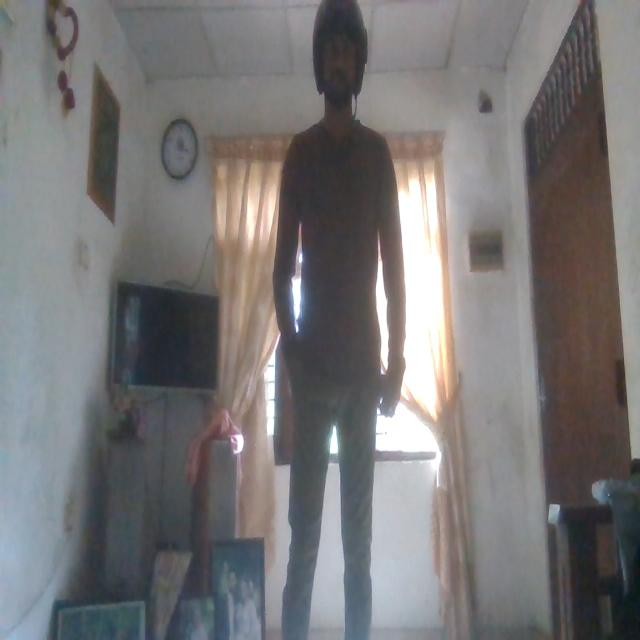Helmet_Wearer: (301, 0, 369, 124)
Person: (267, 0, 401, 640)
